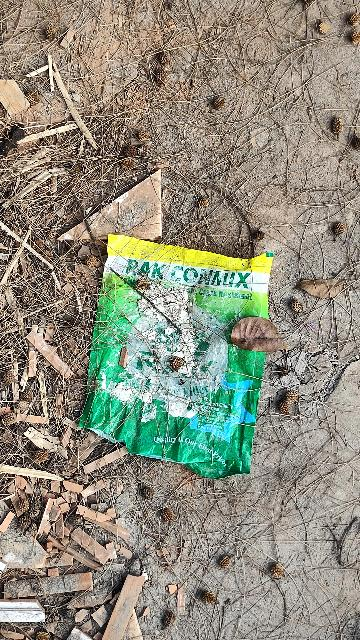packet: (73, 229, 268, 481)
